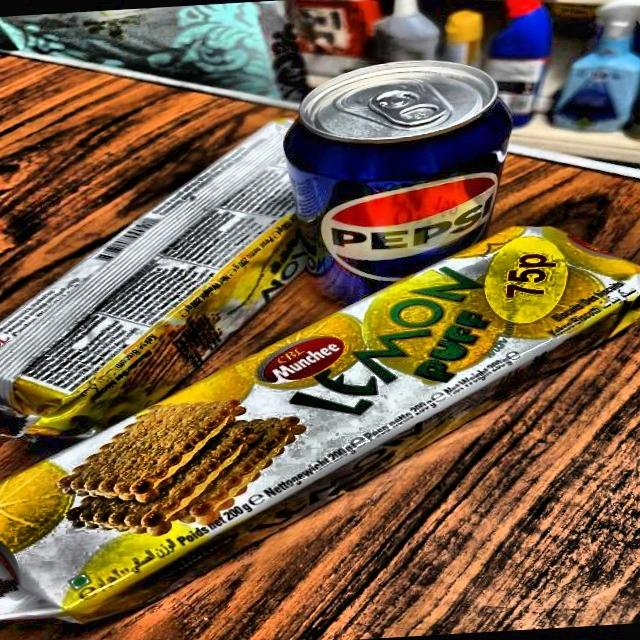lemon puff: (7, 219, 635, 639), (6, 106, 297, 424)
pepsi-can: (283, 56, 505, 274)
